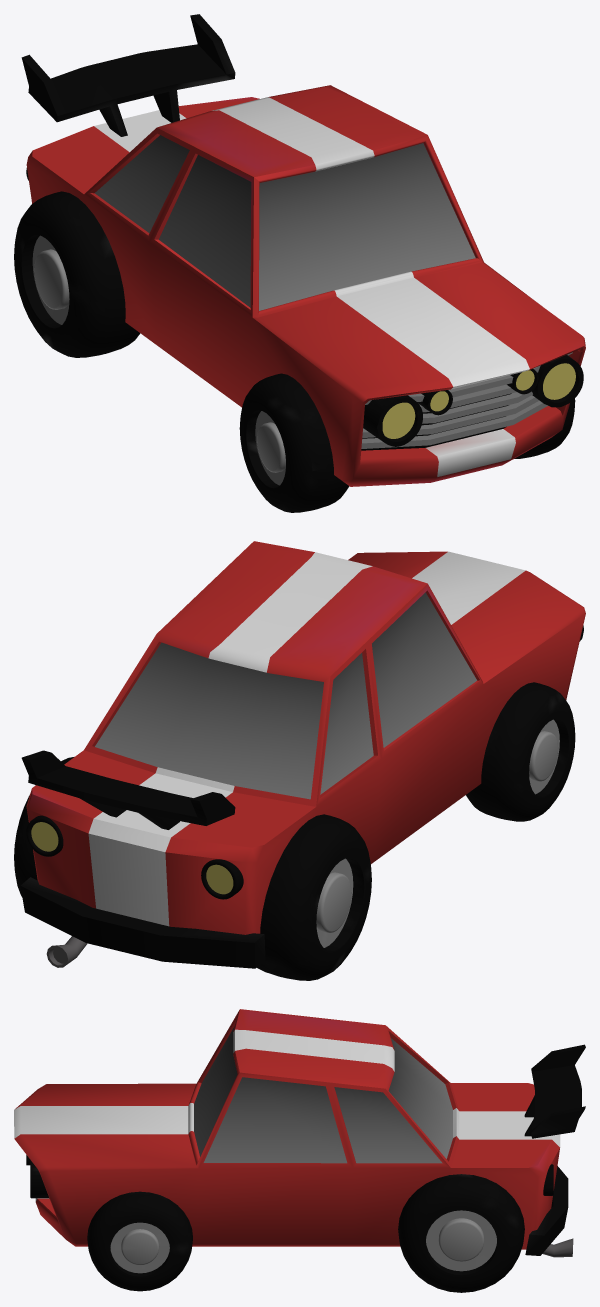
The model's file is carro3.fbx.
The picture shows the model from 3 angles, top to bottom: view 1: azimuth 30°, elevation 25°; view 2: azimuth 150°, elevation 25°; view 3: azimuth 270°, elevation 25°; orthographic projection. The views are drawn at different scales.
Visible parts, largest first — view 1: Carro.Vermelho; view 2: Carro.Vermelho; view 3: Carro.Vermelho.
Part boxes in pixels (<box>): Carro.Vermelho: <box>14,14,585,512</box>; Carro.Vermelho: <box>14,541,585,980</box>; Carro.Vermelho: <box>14,1009,585,1292</box>.
Size of the model in its own units: 254 by 228 by 570.
